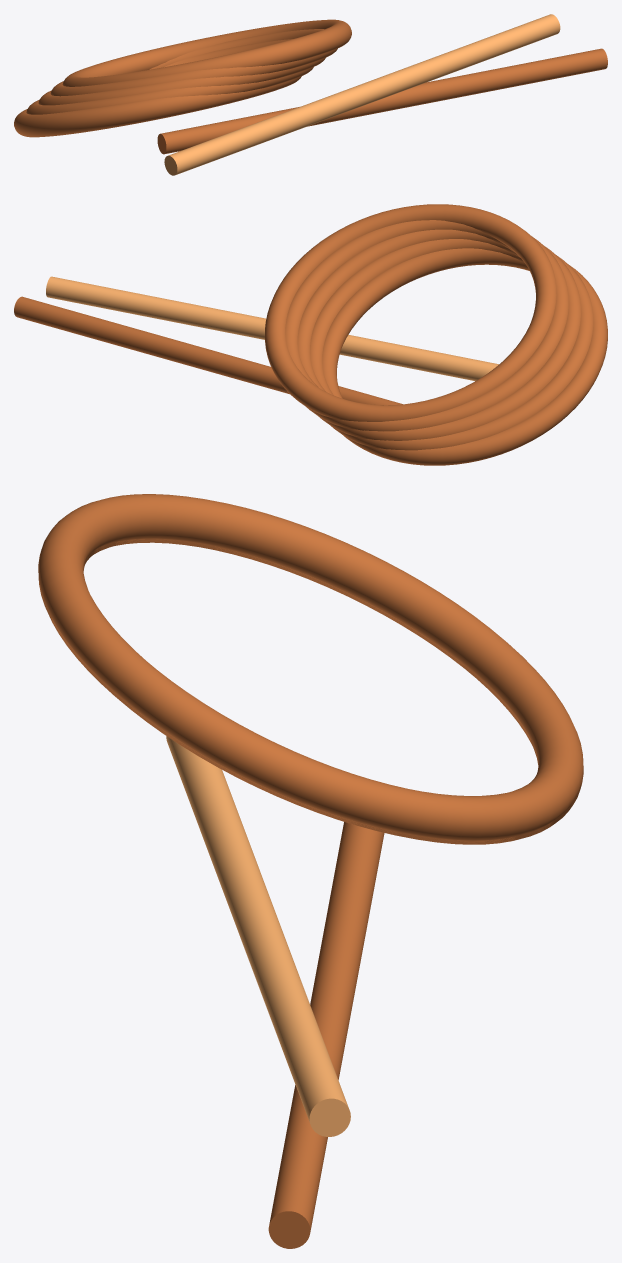
File: copper-wire.glb
3 renders of one model, top to bottom at view 1: azimuth 30°, elevation 25°; view 2: azimuth 150°, elevation 25°; view 3: azimuth 270°, elevation 25°, orthographic. The views are drawn at different scales.
Parts seen in each view (by area): view 1: copper-wire; view 2: copper-wire; view 3: copper-wire.
Boxes of the visible parts, left/top/right/bottom form: copper-wire: left=14, top=14, right=607, bottom=175; copper-wire: left=14, top=204, right=607, bottom=465; copper-wire: left=38, top=494, right=583, bottom=1248.
Size of the model in its own units: 3.76 by 1 by 1.56.
